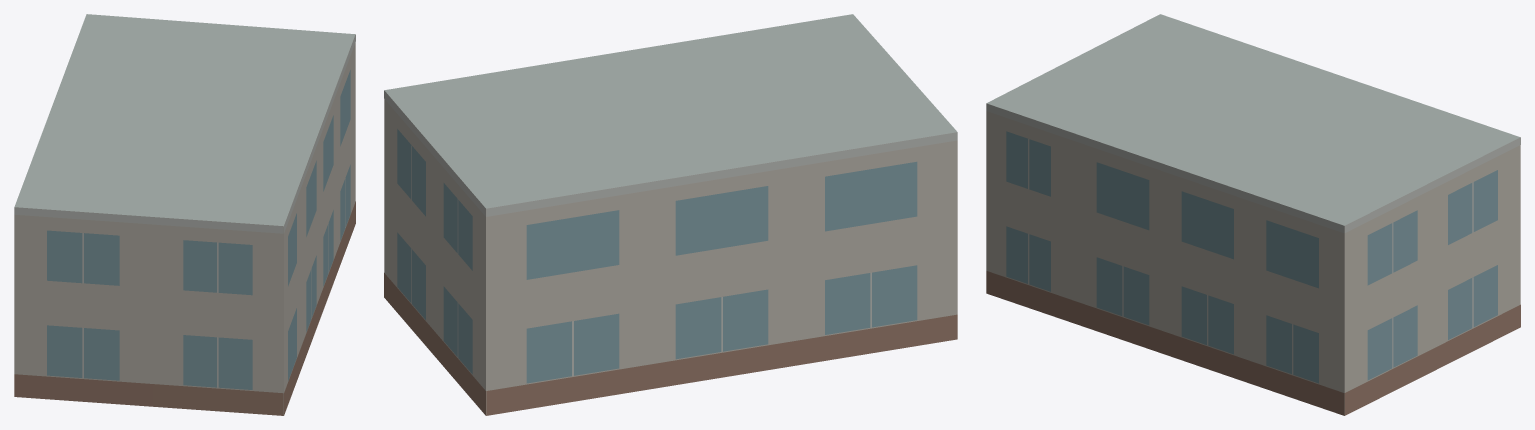
Rendered from survey-upis-32891246.glb.
3 renders of one model, left to right at view 1: azimuth 30°, elevation 25°; view 2: azimuth 150°, elevation 25°; view 3: azimuth 270°, elevation 25°, orthographic. The views are drawn at different scales.
Visible parts, largest first — view 1: survey-upis-32891246.tmp; view 2: survey-upis-32891246.tmp; view 3: survey-upis-32891246.tmp.
Part boxes in pixels (x1,y1,x2,y2): survey-upis-32891246.tmp: [14, 14, 355, 415]; survey-upis-32891246.tmp: [384, 14, 957, 415]; survey-upis-32891246.tmp: [986, 14, 1520, 415].
Size of the model in its own units: 14.59 by 6.1 by 15.55.
